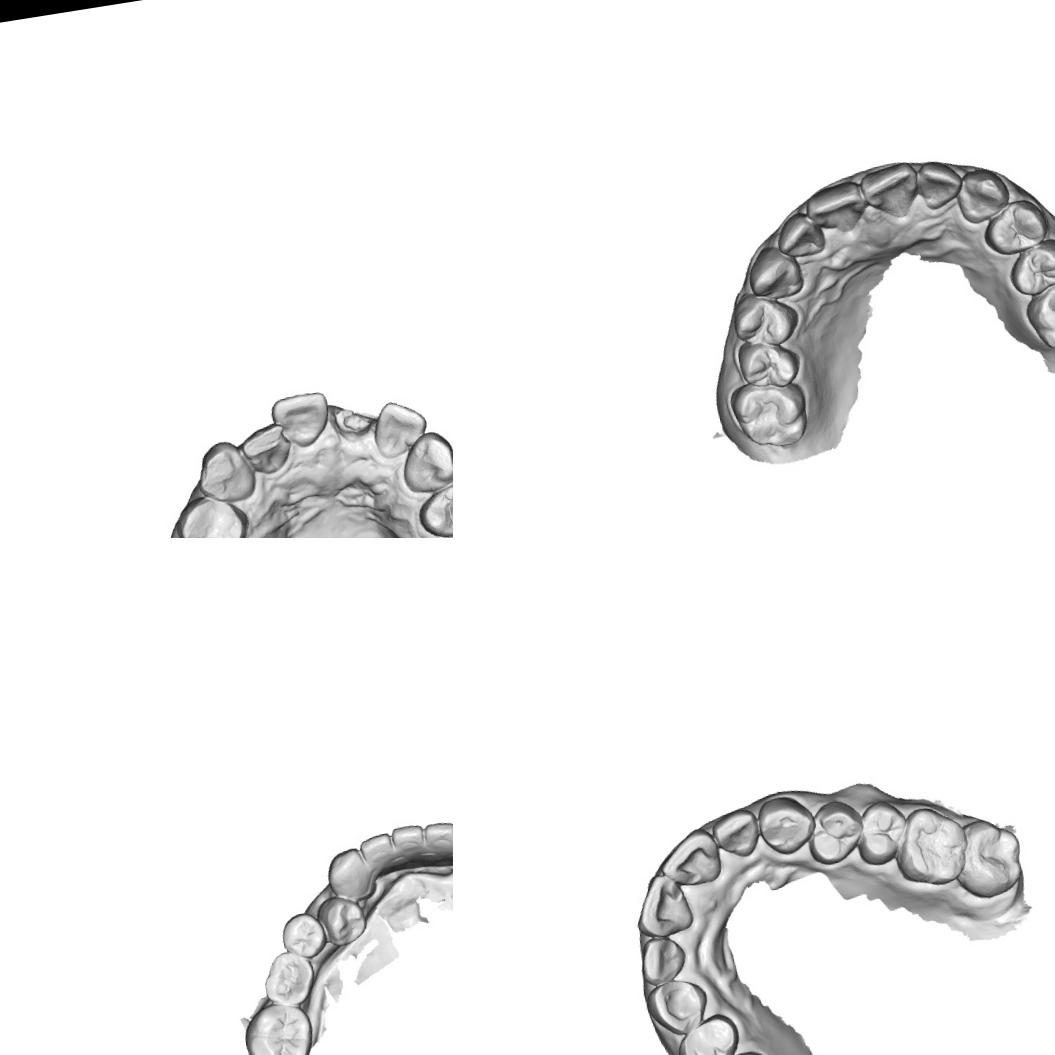canine: (190, 436, 262, 509), (642, 974, 713, 1042), (754, 790, 821, 858), (395, 427, 453, 498), (742, 240, 806, 304), (952, 163, 1014, 227), (323, 844, 376, 904)
incisor: (628, 868, 698, 942), (656, 825, 726, 891), (367, 394, 433, 462), (855, 158, 923, 224), (268, 389, 334, 452), (801, 178, 868, 239), (634, 932, 692, 990), (238, 422, 296, 479), (708, 805, 764, 862), (912, 156, 967, 213), (771, 209, 828, 262), (358, 831, 402, 890), (390, 822, 431, 868), (421, 818, 453, 866)
molar: (887, 799, 974, 891), (948, 813, 1029, 903), (726, 374, 813, 454), (239, 998, 319, 1055), (258, 947, 320, 1010), (1020, 268, 1055, 356)
premolar: (800, 795, 869, 869), (726, 287, 802, 352), (978, 195, 1052, 260), (849, 796, 914, 870), (734, 334, 804, 395), (170, 489, 252, 538), (670, 1010, 746, 1055), (1003, 235, 1055, 299), (315, 891, 371, 950), (278, 909, 329, 962), (411, 477, 453, 538)
